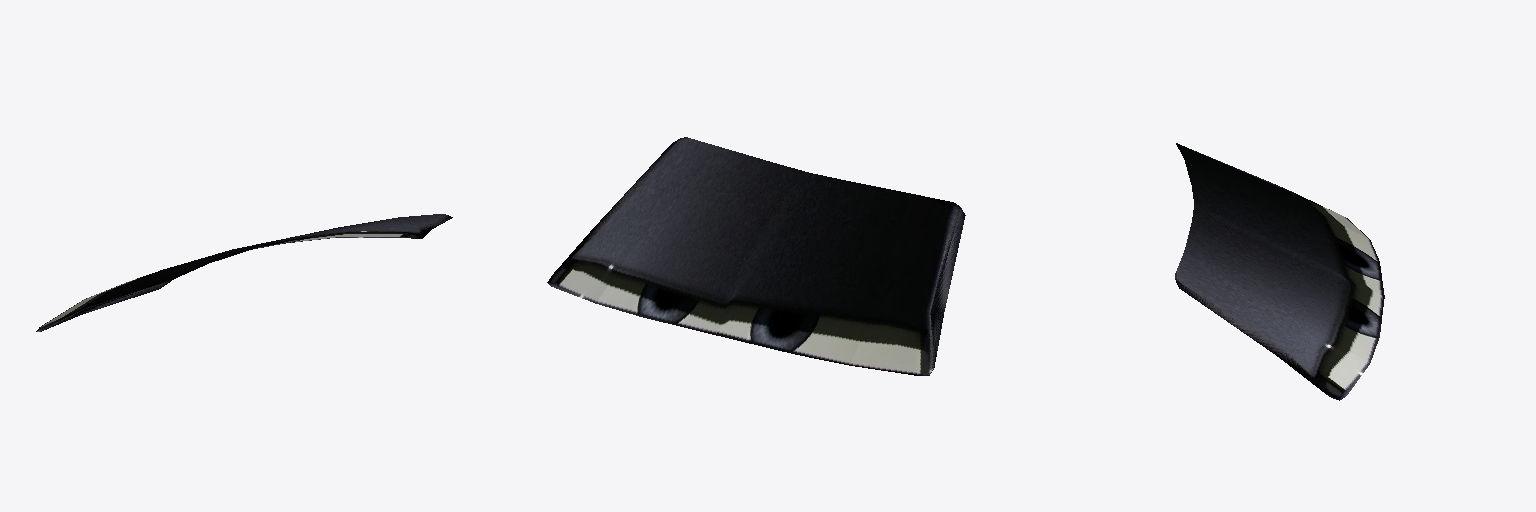
3 renders of one model, left to right at view 1: azimuth 30°, elevation 25°; view 2: azimuth 150°, elevation 25°; view 3: azimuth 270°, elevation 25°, orthographic.
Visible parts, largest first — view 1: Wangan2016r34arise0091; view 2: Wangan2016r34arise0091; view 3: Wangan2016r34arise0091.
Boxes of the visible parts, x1=… form: Wangan2016r34arise0091: x1=36, y1=214, x2=452, y2=331; Wangan2016r34arise0091: x1=547, y1=137, x2=965, y2=375; Wangan2016r34arise0091: x1=1175, y1=143, x2=1384, y2=400.
Size of the model in its own units: 5.35 by 1.38 by 2.54.
1 materials, 1 textured.